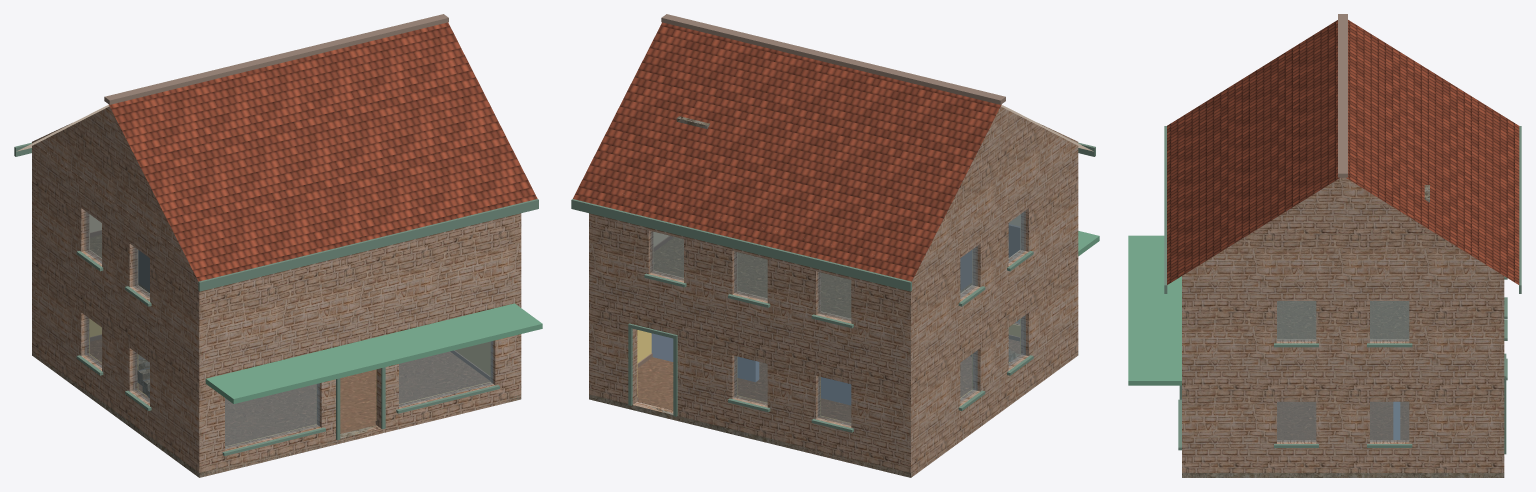
The model's file is village-store.loc-v1.lod0.glb.
The picture shows the model from 3 angles, left to right: view 1: azimuth 30°, elevation 25°; view 2: azimuth 150°, elevation 25°; view 3: azimuth 270°, elevation 25°; orthographic projection. The views are drawn at different scales.
Visible parts, largest first — view 1: village-store; view 2: village-store; view 3: village-store.
Part boxes in pixels (x1,y1,x2,y2): village-store: (14, 14, 542, 477); village-store: (571, 14, 1099, 477); village-store: (1128, 14, 1521, 477).
Bounding box in the file's own units: 10.54 × 9.51 × 10.99.
Materials: 6 (4 with a texture image).
